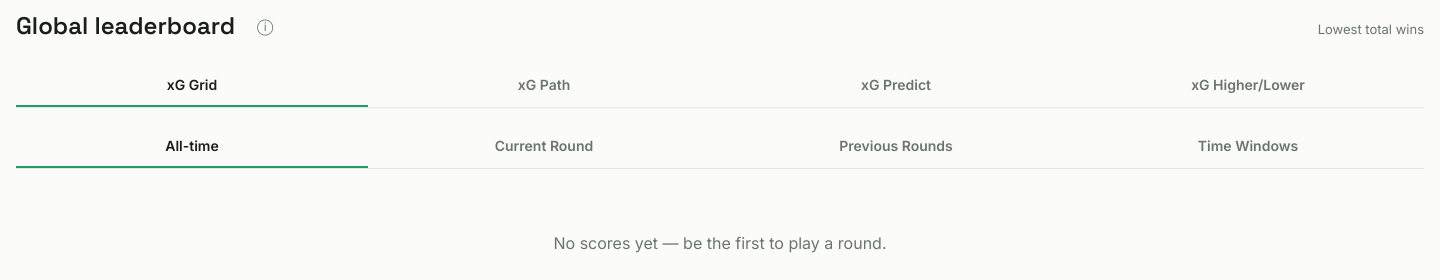
Test: LiveLeaderboard › REQ407: the live scope presents its rows and total as visibly provisional, not final
This screenshot has width=1440, height=280.
Check: the text "No scores yet — be the first to play a round." is shown, box [554,233,886,253]
Click the tab "Current Round" at coordinates (544, 146), box [368,124,720,168]
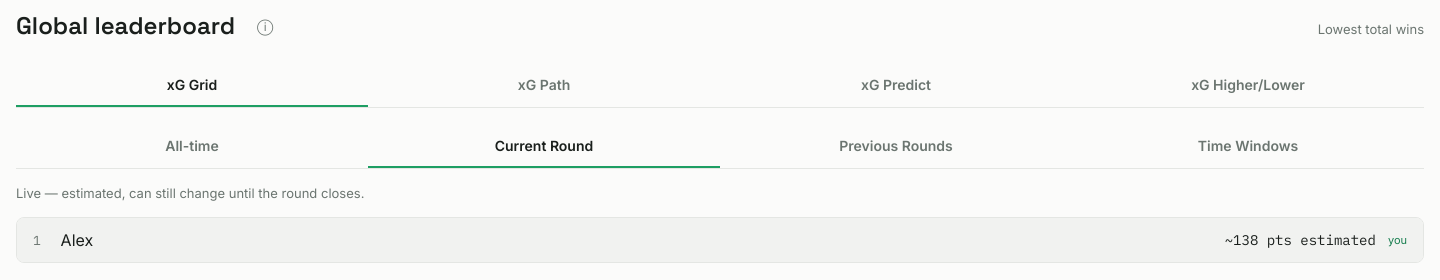
Check: the text "~138 pts estimated" is shown, box [1225,231,1376,249]
Check: the text "Live — estimated, can still change until the round closes." is shown, box [16,185,364,201]
